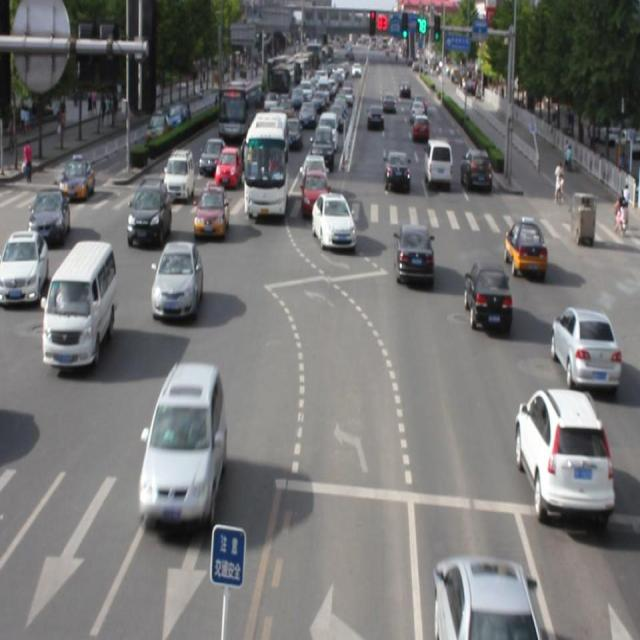car: (139, 360, 226, 524), (516, 387, 610, 522), (434, 550, 538, 640), (550, 306, 618, 388), (151, 240, 202, 318), (464, 258, 511, 331), (127, 175, 170, 248), (311, 196, 355, 253), (394, 221, 433, 283), (504, 215, 545, 272), (192, 183, 228, 239)
truck: (42, 240, 115, 368)
